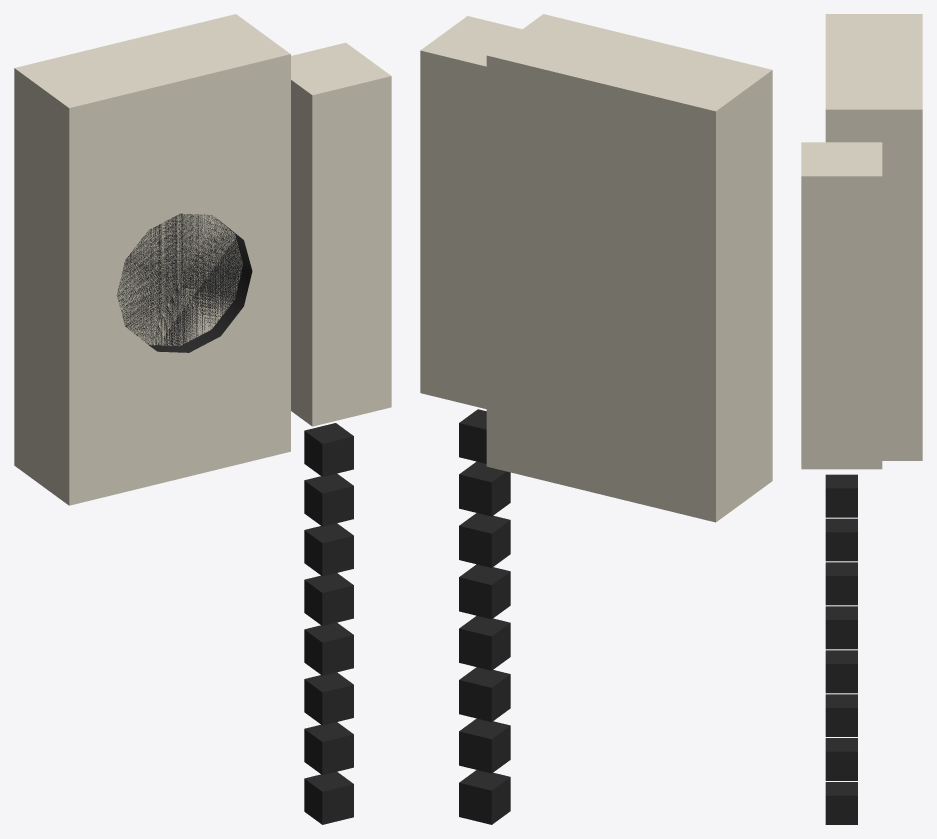
Rendered from phone_wall.glb.
3 renders of one model, left to right at view 1: azimuth 30°, elevation 25°; view 2: azimuth 150°, elevation 25°; view 3: azimuth 270°, elevation 25°, orthographic. The views are drawn at different scales.
Parts seen in each view (by area): view 1: phone_wall; view 2: phone_wall; view 3: phone_wall.
Boxes of the visible parts, x1,y1,x2,y2 form: phone_wall: (14,14,391,824); phone_wall: (420,14,772,824); phone_wall: (801,14,922,824).
Bounding box in the file's own units: 0.195 × 0.47 × 0.075.
